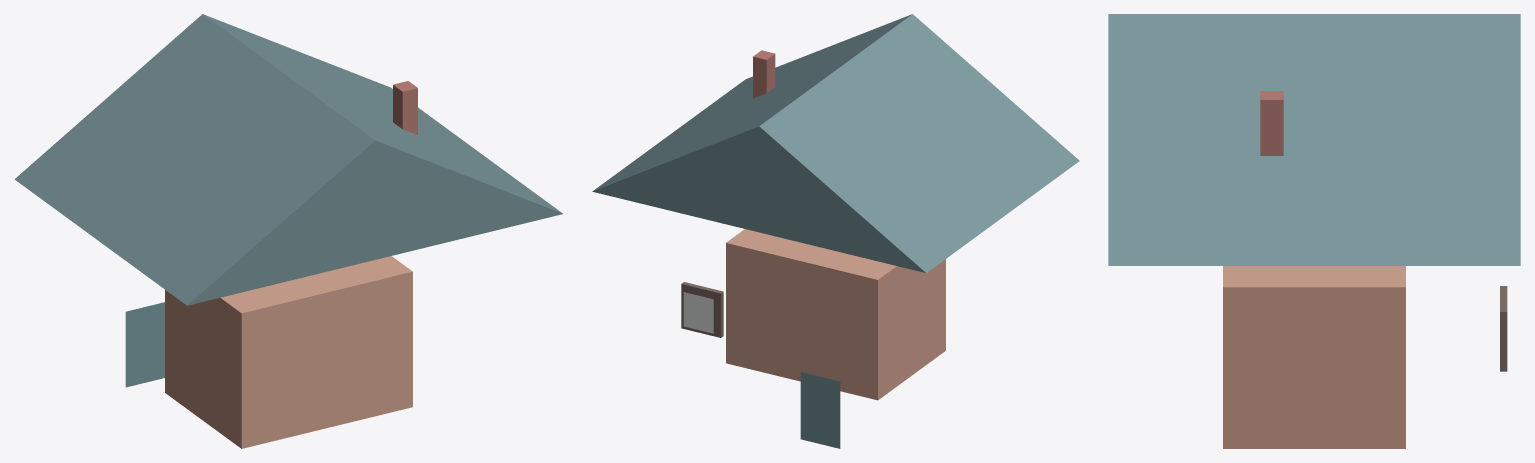
File: harbour-tidehouse-01.glb
3 renders of one model, left to right at view 1: azimuth 30°, elevation 25°; view 2: azimuth 150°, elevation 25°; view 3: azimuth 270°, elevation 25°, orthographic. The views are drawn at different scales.
Parts seen in each view (by area): view 1: TidehouseRoof, TidehouseBody, Door, Chimney; view 2: TidehouseRoof, TidehouseBody, Door, Window, WindowFrame, Chimney; view 3: TidehouseRoof, TidehouseBody, Chimney, WindowFrame.
Part boxes in pixels (x1,y1,x2,y2): TidehouseRoof: (14, 14, 562, 305); TidehouseBody: (165, 256, 412, 448); Door: (125, 302, 164, 387); Chimney: (393, 81, 417, 134); TidehouseRoof: (592, 14, 1079, 273); TidehouseBody: (726, 229, 945, 400); Door: (800, 372, 840, 448); Window: (683, 292, 713, 333); WindowFrame: (681, 282, 723, 337); Chimney: (753, 50, 775, 98); TidehouseRoof: (1108, 14, 1520, 265); TidehouseBody: (1223, 266, 1405, 448); Chimney: (1260, 91, 1283, 155); WindowFrame: (1500, 286, 1507, 371).
Bounding box in the file's own units: 2.44 × 2.16 × 1.94.
